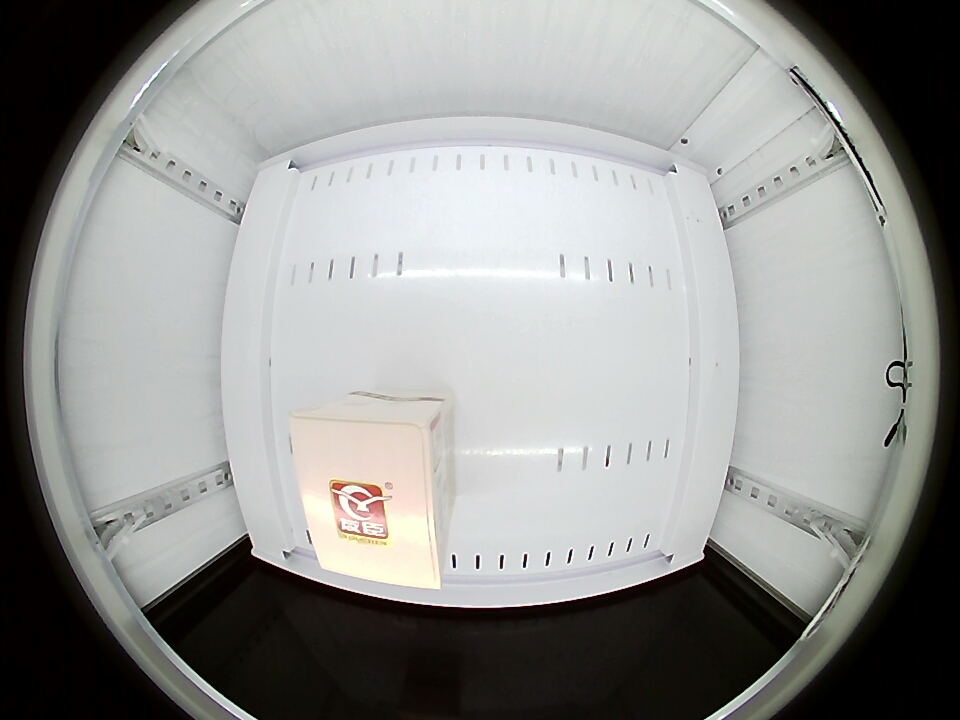rousongbing: (289, 397, 447, 590)
